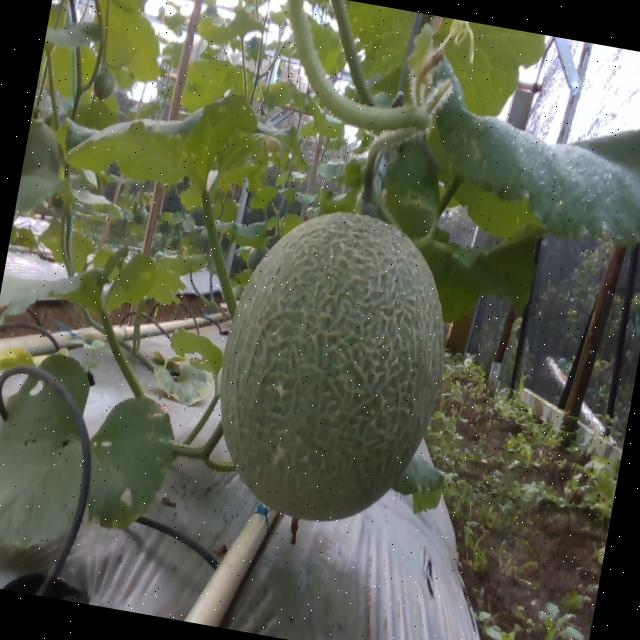melon: (221, 213, 444, 520)
